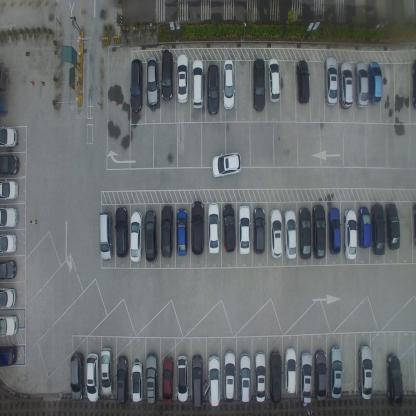car: (386, 351, 404, 408), (356, 342, 373, 401), (210, 150, 242, 180), (114, 204, 130, 259), (144, 352, 160, 406), (190, 200, 205, 256), (251, 57, 266, 113), (98, 208, 113, 263), (338, 60, 354, 110), (343, 208, 358, 261), (159, 205, 173, 261), (312, 203, 326, 259), (144, 208, 158, 264), (85, 352, 100, 404), (268, 349, 282, 404), (298, 350, 312, 405), (328, 344, 342, 399), (190, 57, 204, 111), (160, 48, 174, 102), (70, 351, 85, 401), (207, 355, 221, 408), (313, 348, 327, 401), (324, 54, 338, 107), (206, 64, 220, 117), (129, 210, 143, 263), (130, 56, 143, 113), (190, 354, 203, 410), (299, 206, 312, 261), (146, 55, 160, 106), (372, 202, 385, 256), (222, 203, 236, 253), (295, 60, 310, 106), (269, 207, 282, 260), (327, 206, 341, 255), (386, 202, 400, 251), (354, 60, 368, 109), (238, 352, 251, 404), (223, 350, 236, 402), (253, 350, 266, 402), (283, 207, 296, 259), (222, 59, 235, 111), (367, 59, 382, 104), (175, 208, 188, 259), (100, 346, 113, 397), (267, 57, 281, 102), (207, 203, 219, 255), (252, 206, 265, 254), (284, 346, 297, 394), (176, 52, 188, 104), (116, 354, 128, 406), (176, 356, 188, 406), (238, 205, 250, 255), (161, 356, 173, 406), (358, 205, 371, 249), (0, 152, 21, 178), (131, 360, 143, 404), (0, 312, 19, 339), (0, 124, 19, 150), (0, 178, 20, 201), (0, 343, 17, 369), (0, 285, 18, 309), (0, 258, 19, 280), (0, 206, 19, 228), (0, 233, 18, 256), (410, 58, 416, 108), (410, 199, 416, 248)
